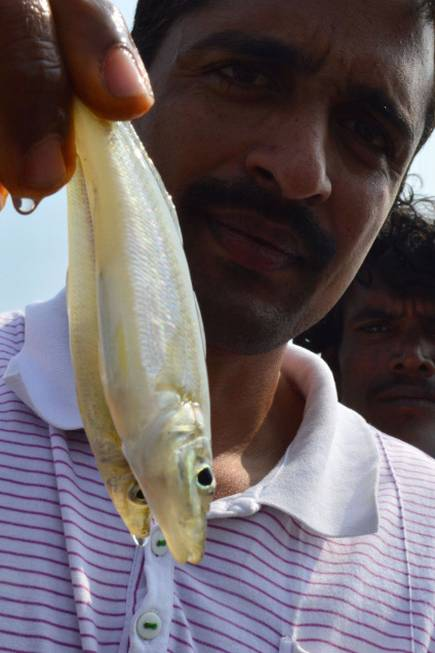kiss: (57, 90, 228, 565)
